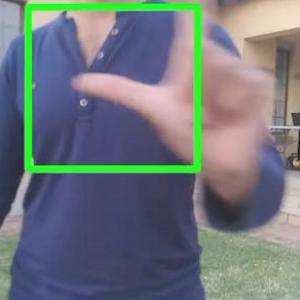land_hand: (64, 0, 278, 184)
